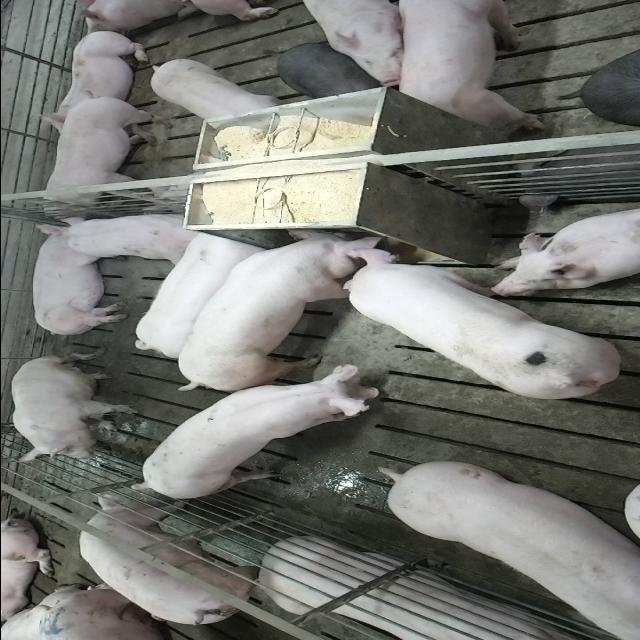Feeding: (337, 242, 623, 402), (174, 222, 393, 389)
Lateral_lying: (259, 539, 609, 640), (28, 220, 128, 338)
Sitting: (8, 354, 138, 462)
Standing: (380, 463, 640, 640), (132, 368, 388, 504), (78, 498, 268, 632), (392, 1, 542, 135), (128, 230, 264, 359), (32, 93, 174, 216), (290, 0, 406, 88), (144, 56, 282, 126), (272, 40, 372, 100)
Sternal_lying: (489, 205, 640, 293), (32, 28, 156, 126), (46, 208, 202, 261)
